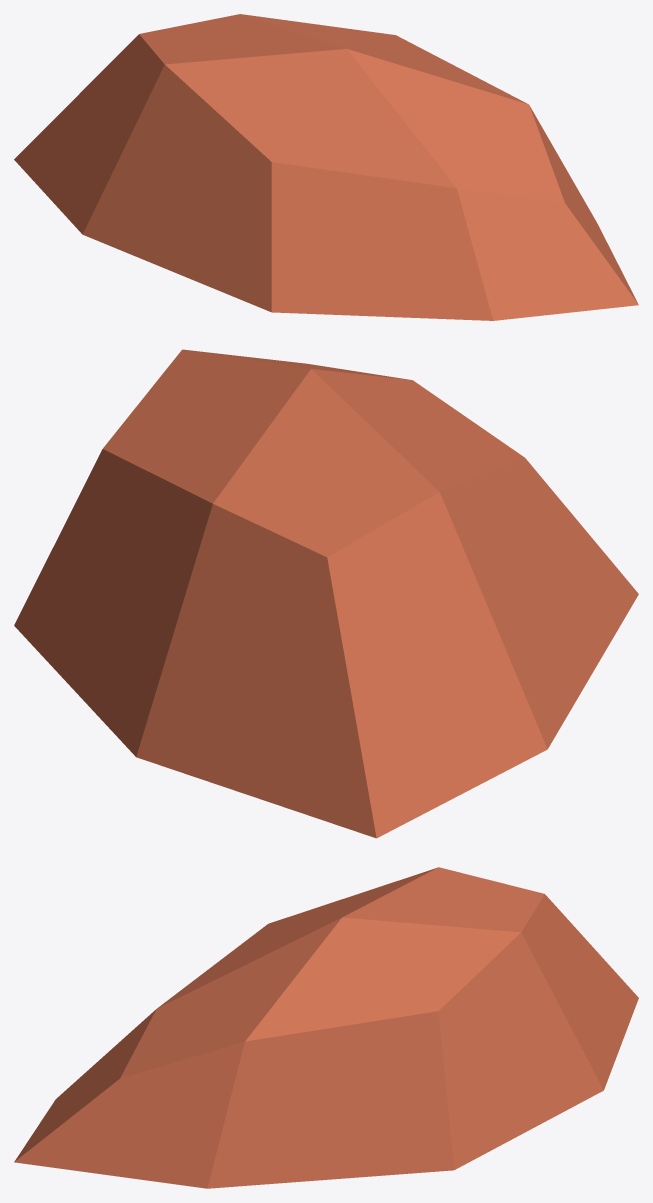
Rendered from Rock_Mesa_Medium_1.fbx.
3 renders of one model, top to bottom at view 1: azimuth 30°, elevation 25°; view 2: azimuth 150°, elevation 25°; view 3: azimuth 270°, elevation 25°, orthographic. The views are drawn at different scales.
Parts seen in each view (by area): view 1: Rock; view 2: Rock; view 3: Rock.
Boxes of the visible parts, box(x1,y1,x2,y2) form: Rock: box(14, 14, 638, 320); Rock: box(14, 349, 638, 838); Rock: box(14, 867, 638, 1188).
Bounding box in the file's own units: 84.66 × 34.99 × 111.
